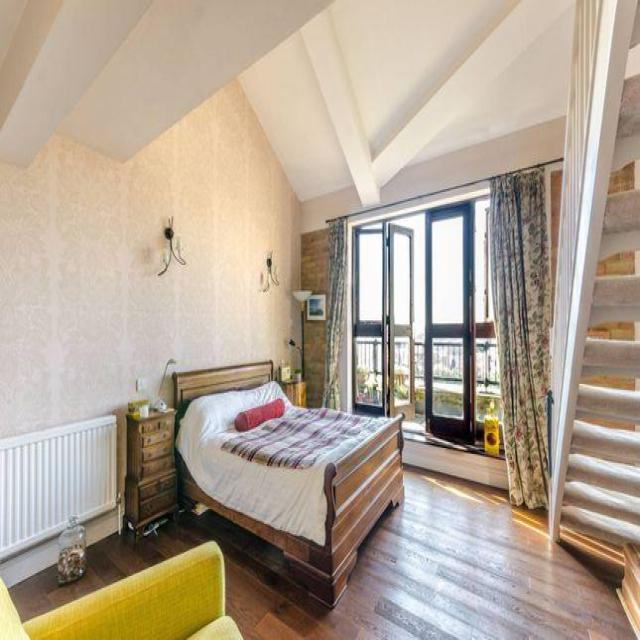Wall: (0, 1, 574, 217), (10, 469, 635, 639), (0, 83, 297, 438), (24, 191, 299, 430), (301, 230, 328, 293), (307, 319, 326, 406)
